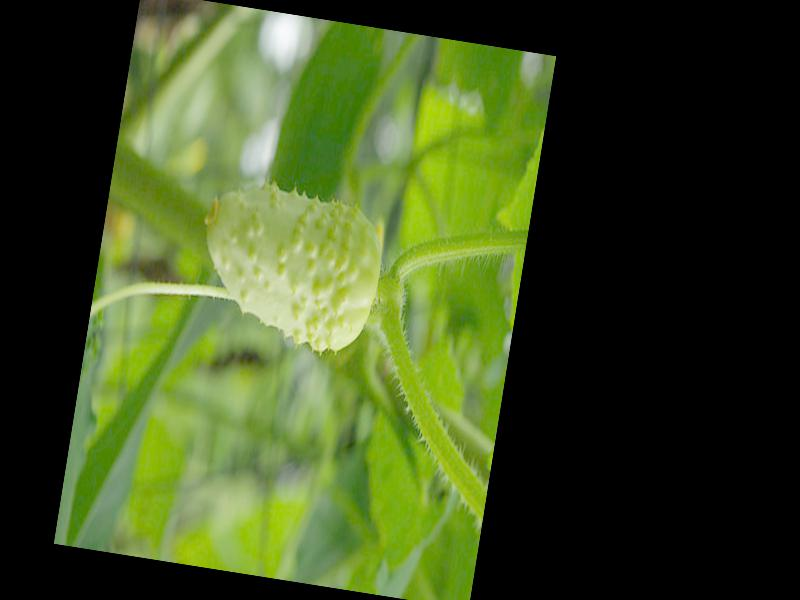Cucumber: (185, 177, 390, 360)
